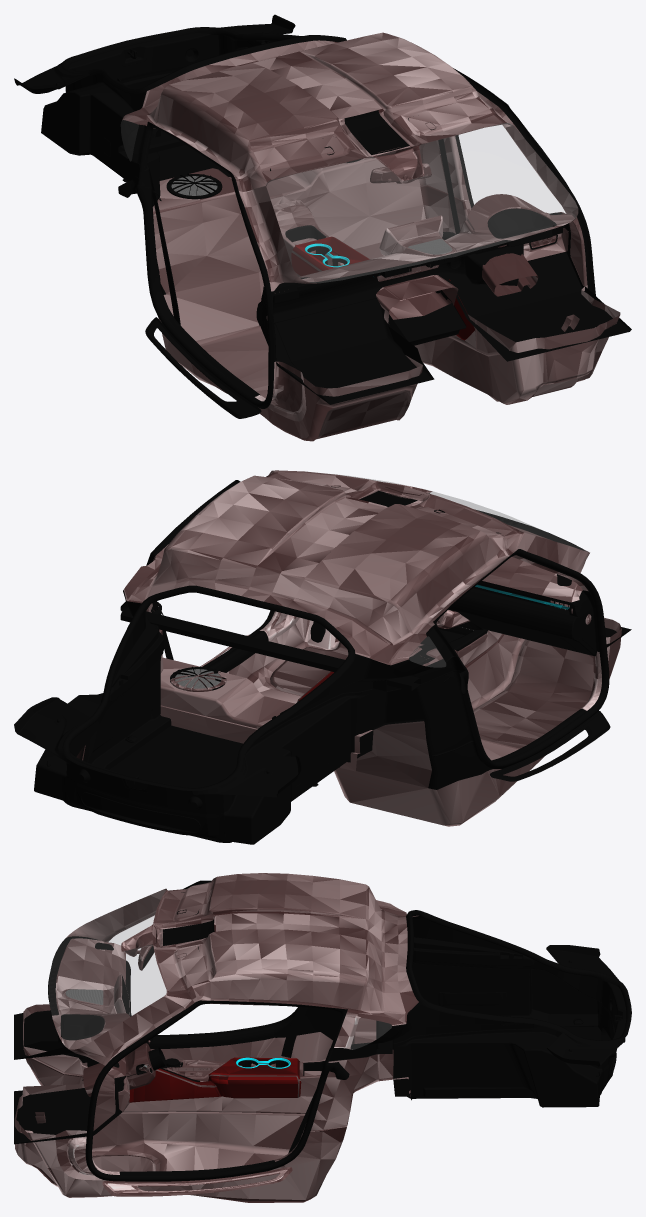
Rendered from Toyota_GRSupra_Interior.FBX.
The picture shows the model from 3 angles, top to bottom: view 1: azimuth 30°, elevation 25°; view 2: azimuth 150°, elevation 25°; view 3: azimuth 270°, elevation 25°; orthographic projection. The views are drawn at different scales.
Visible parts, largest first — view 1: Interior, Glass_Interior, Interior_Detail; view 2: Interior, Glass_Interior, Interior_Detail; view 3: Interior, Glass_Interior, Interior_Detail, Stitches.
Part boxes in pixels (x1,y1,x2,y2): Interior: (14,14,631,441); Glass_Interior: (121,120,577,282); Interior_Detail: (300,110,562,281); Interior: (14,470,631,844); Glass_Interior: (342,475,587,667); Interior_Detail: (310,491,572,665); Interior: (14,873,631,1202); Glass_Interior: (48,889,391,1049); Interior_Detail: (95,917,214,1085); Stitches: (114,961,300,1111).
Bounding box in the file's own units: 1.65 × 1.27 × 2.76.
